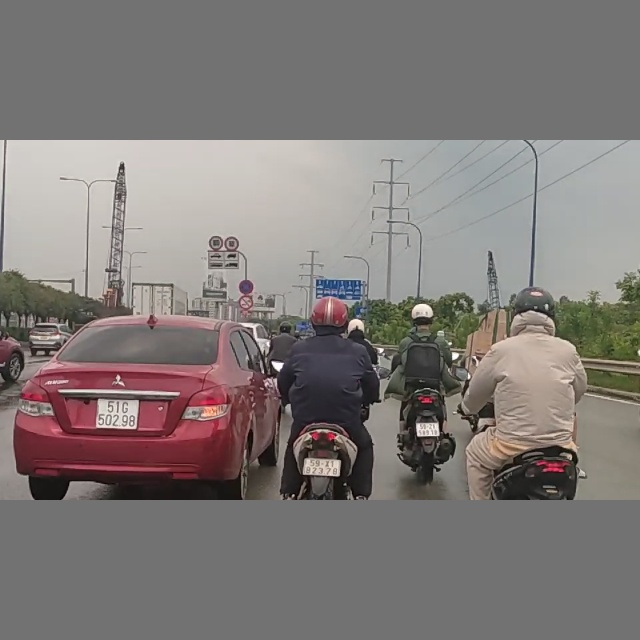P.130: (238, 279, 254, 295)
